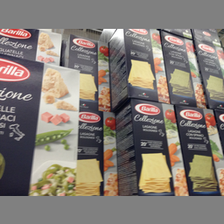pasta: (1, 53, 81, 195), (115, 99, 189, 195), (108, 28, 172, 108), (158, 28, 206, 106), (66, 33, 108, 100)
